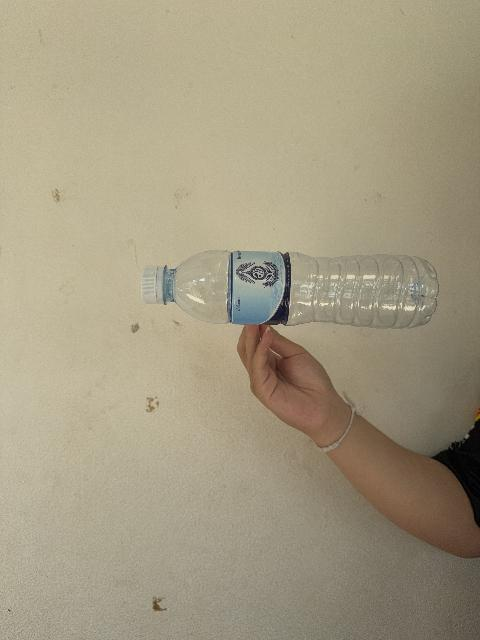bottle: (142, 251, 438, 328)
